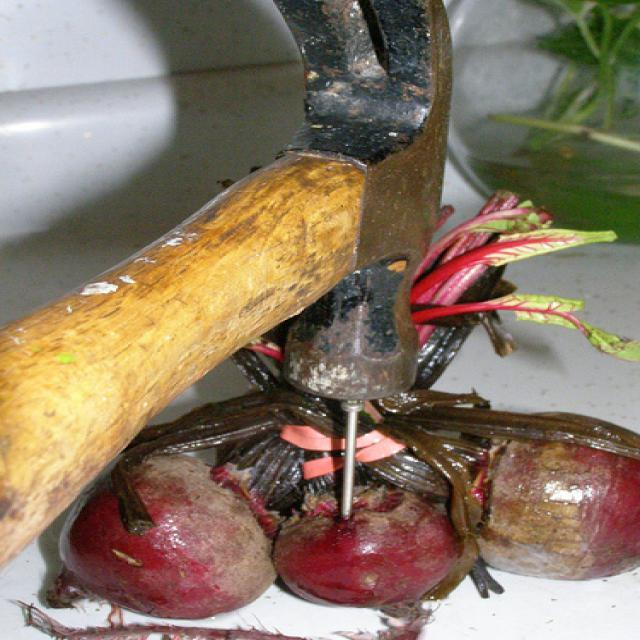hammer: (0, 0, 471, 584)
